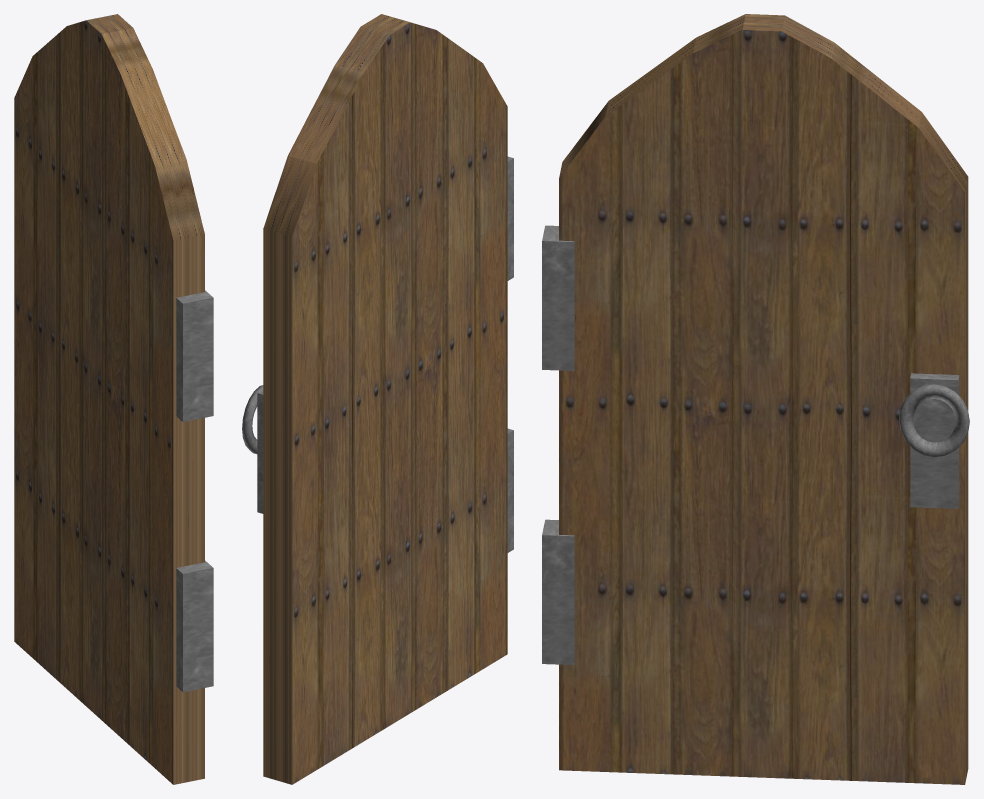
The model's file is woodenDoor.fbx.
3 renders of one model, left to right at view 1: azimuth 30°, elevation 25°; view 2: azimuth 150°, elevation 25°; view 3: azimuth 270°, elevation 25°, orthographic. The views are drawn at different scales.
Parts seen in each view (by area): view 1: polySurface328; view 2: polySurface328; view 3: polySurface328.
Part boxes in pixels (x1=…): polySurface328: x1=14, y1=14, x2=213, y2=784; polySurface328: x1=242, y1=14, x2=513, y2=784; polySurface328: x1=542, y1=14, x2=969, y2=784.
Size of the model in its own units: 1.12 by 9.42 by 4.89.
Materials: 2 (2 with a texture image).
